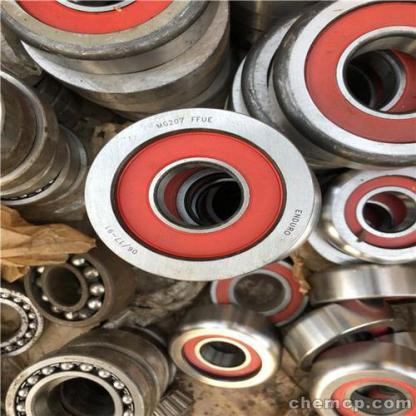FOD: (85, 103, 322, 278), (1, 343, 156, 415), (163, 302, 284, 394), (321, 160, 415, 264), (21, 250, 127, 333), (303, 338, 415, 415)
